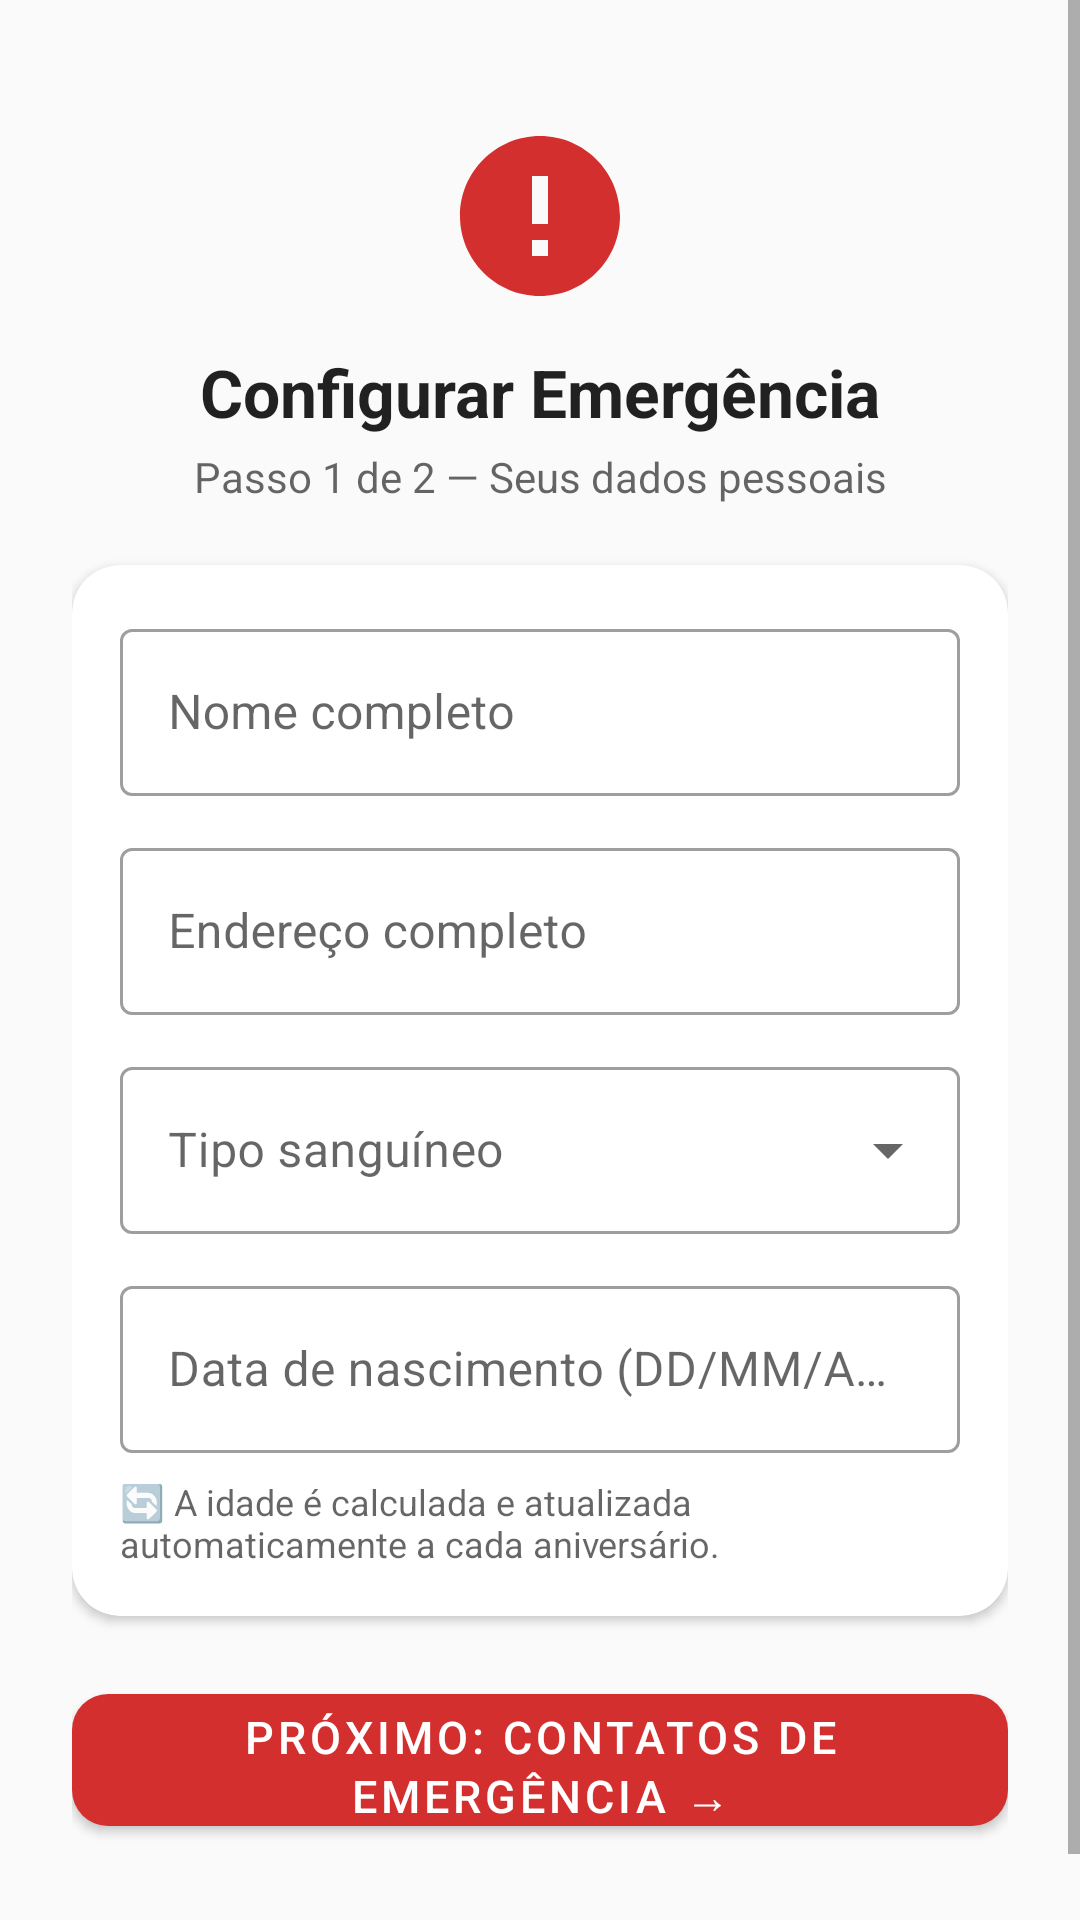

Icons on this 1080×1920 Android screen, each with its box as (x1, y1, x2, y2):
emergency: (460, 136, 620, 296)
